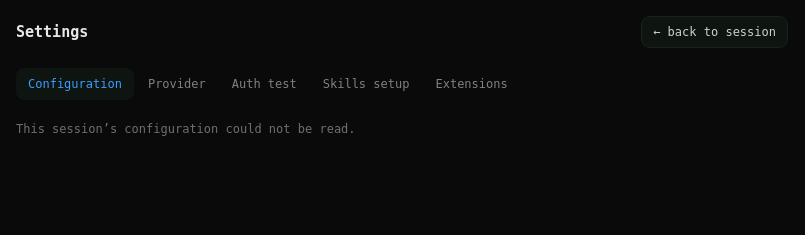
Test: the settings route › switches to the auth test tab
Click the tab with test id "settings-tab-auth".
click(264, 84)  # box [220, 68, 309, 100]
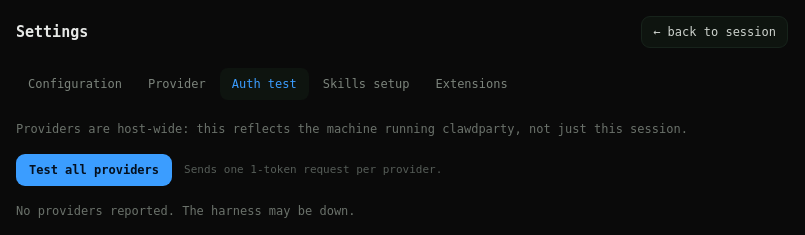
Now the button with test id "auth-test-run" is shown, box [16, 154, 172, 186]
